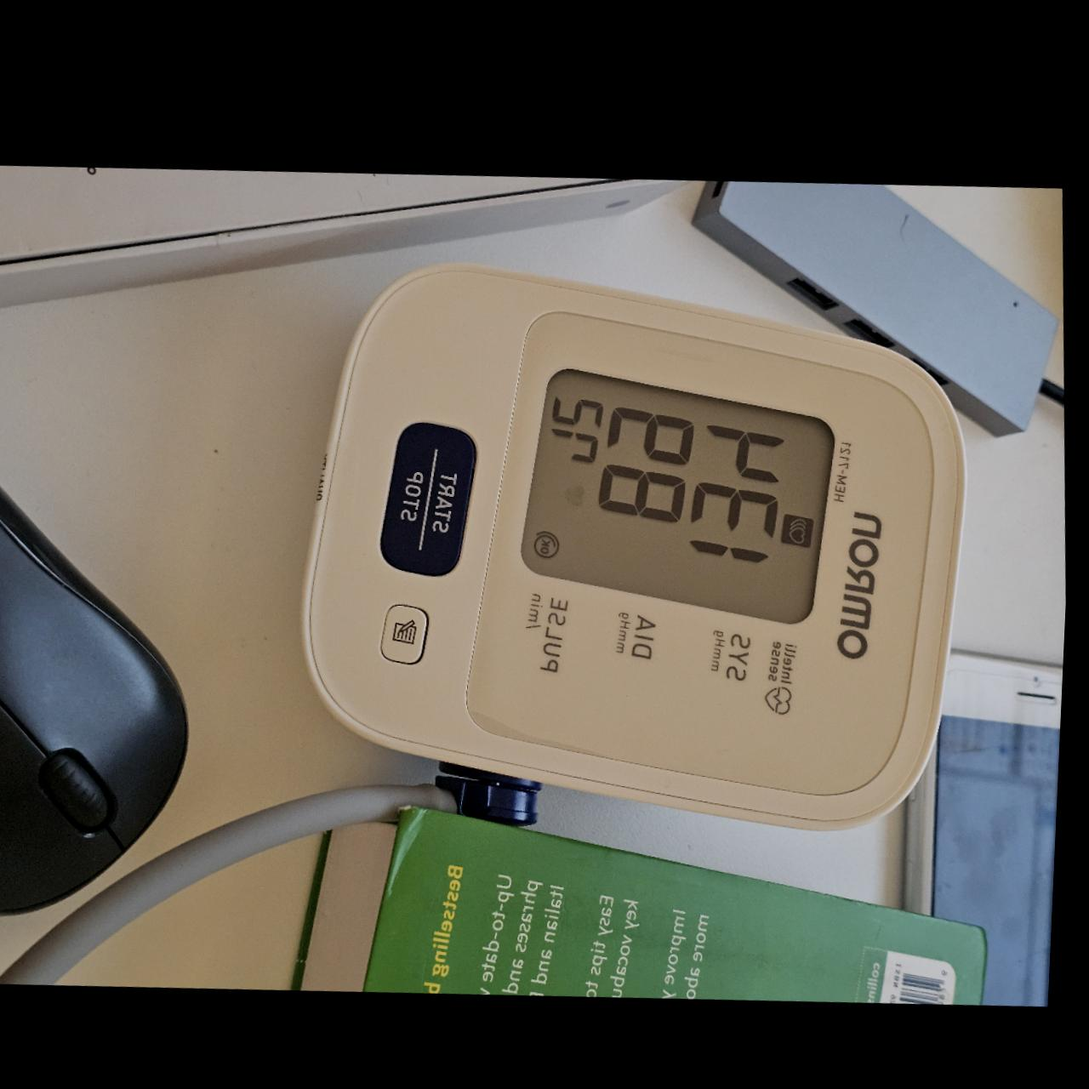blood pressure monitor: (269, 218, 999, 869)
